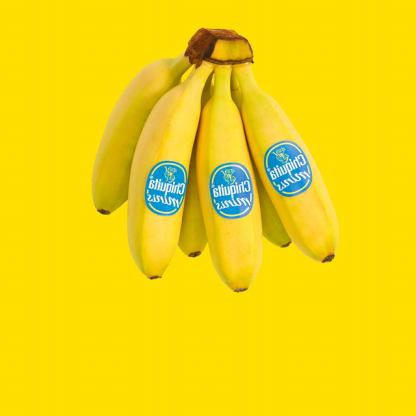banana: (232, 70, 343, 263), (85, 58, 183, 231), (131, 85, 204, 297), (194, 94, 266, 307)
